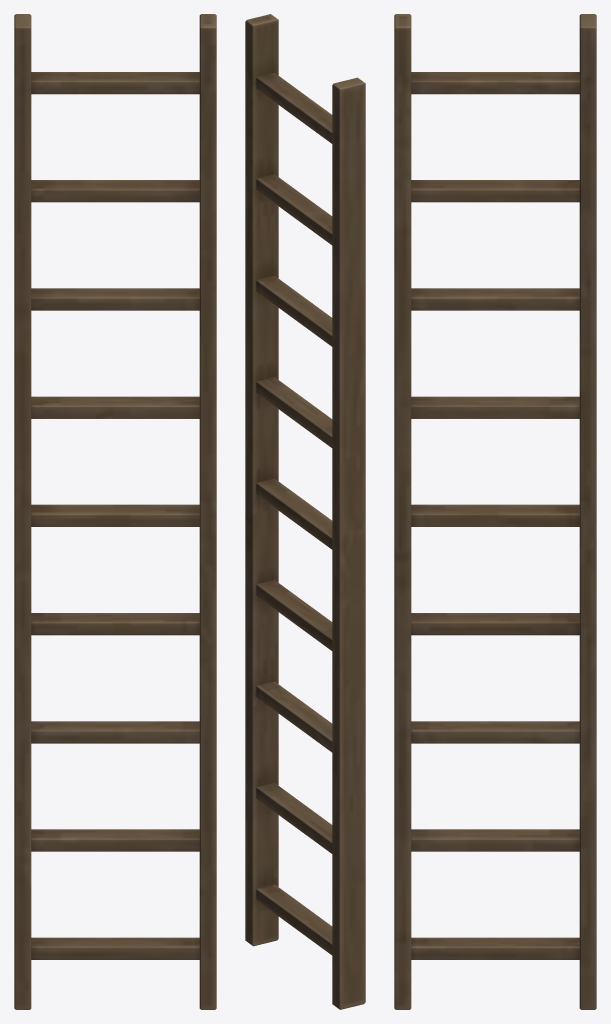
The model's file is SM_Ladder_Wood_704070.glb.
The picture shows the model from 3 angles, left to right: view 1: azimuth 90°, elevation 25°; view 2: azimuth 210°, elevation 25°; view 3: azimuth 270°, elevation 25°; orthographic projection. The views are drawn at different scales.
Size of the model in its own units: 0.0965 by 3.18 by 0.5937.
1 material, 1 textured.
